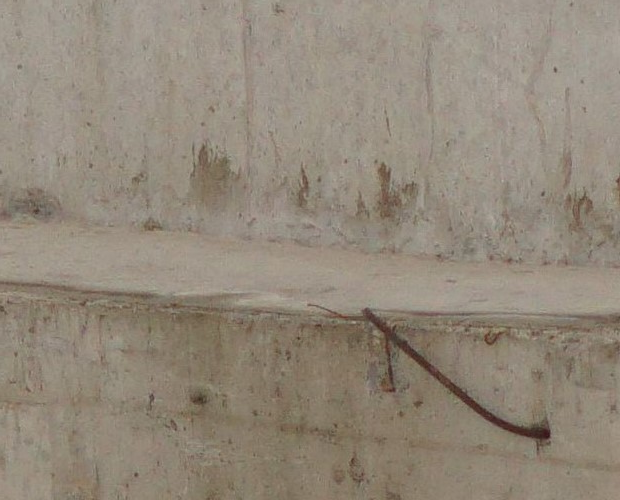Exposed reinforcement: (360, 307, 550, 439)
